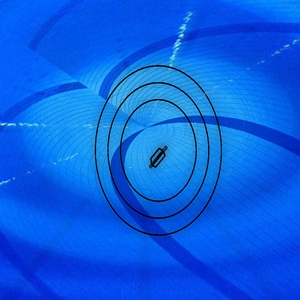circle: (90, 62, 232, 237)
submarine: (146, 140, 179, 170)
